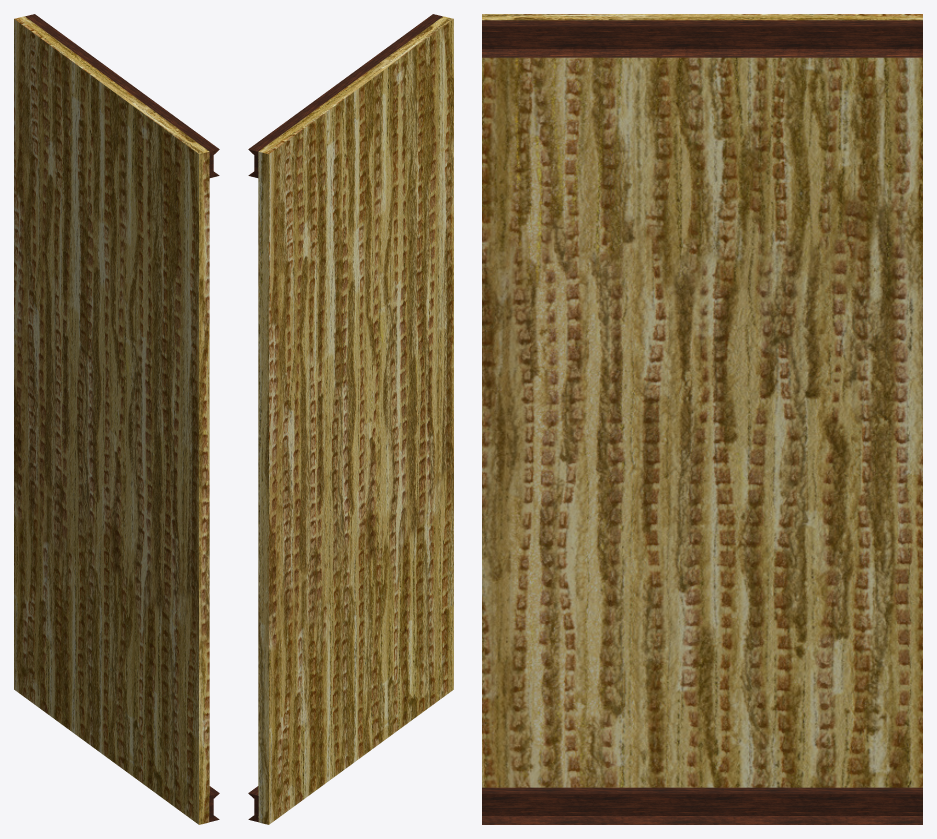
File: Wall.glb
The picture shows the model from 3 angles, left to right: view 1: azimuth 30°, elevation 25°; view 2: azimuth 150°, elevation 25°; view 3: azimuth 270°, elevation 25°; orthographic projection. The views are drawn at different scales.
Parts seen in each view (by area): view 1: Cube.001, Cube.003; view 2: Cube.001, Cube.003; view 3: Cube.001, Cube.002, Cube.003.
Boxes of the visible parts, bbox=[...] form: Cube.001: bbox=[14, 16, 209, 824]; Cube.003: bbox=[25, 14, 219, 177]; Cube.001: bbox=[258, 16, 453, 824]; Cube.003: bbox=[248, 14, 442, 177]; Cube.001: bbox=[482, 14, 922, 787]; Cube.002: bbox=[482, 787, 922, 824]; Cube.003: bbox=[482, 20, 922, 57].
Size of the model in its own units: 0.1946 by 6 by 3.
2 materials, 2 textured.
